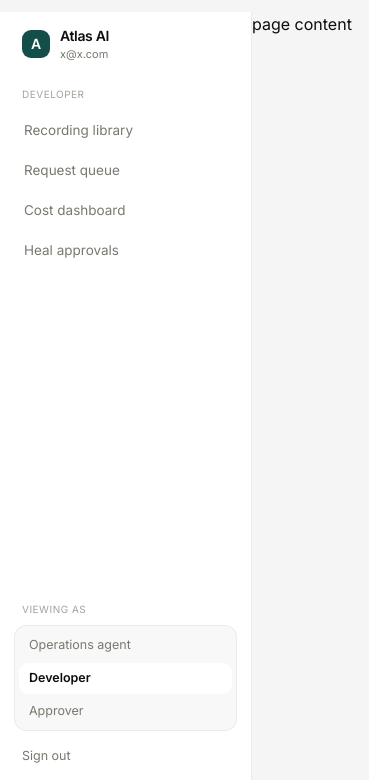
Test: AppLayout viewing-as switcher › lets a developer freely switch between all three views
Expected: the button "Developer" is shown, [19, 663, 232, 694]
Expected: the button "Approver" is shown, [19, 696, 232, 726]
Click the button "Operations agent": (126, 645) [19, 630, 232, 661]
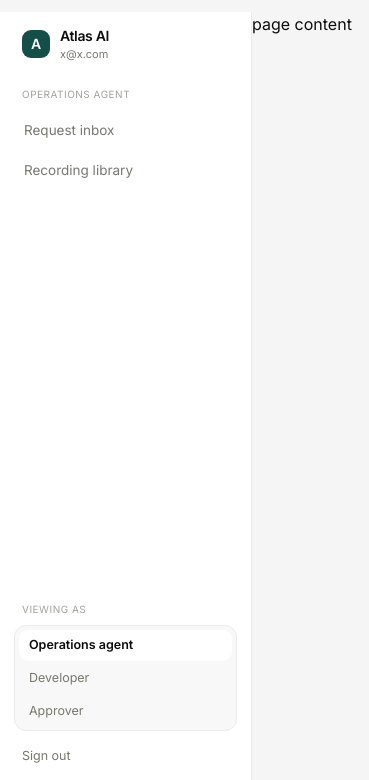
Now the link "Request inbox" is shown, box [24, 122, 114, 138]
